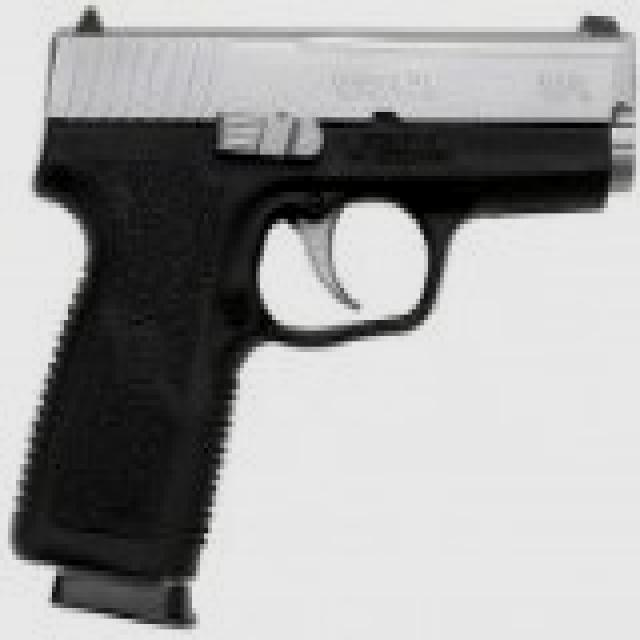pistol: (12, 11, 640, 618)
